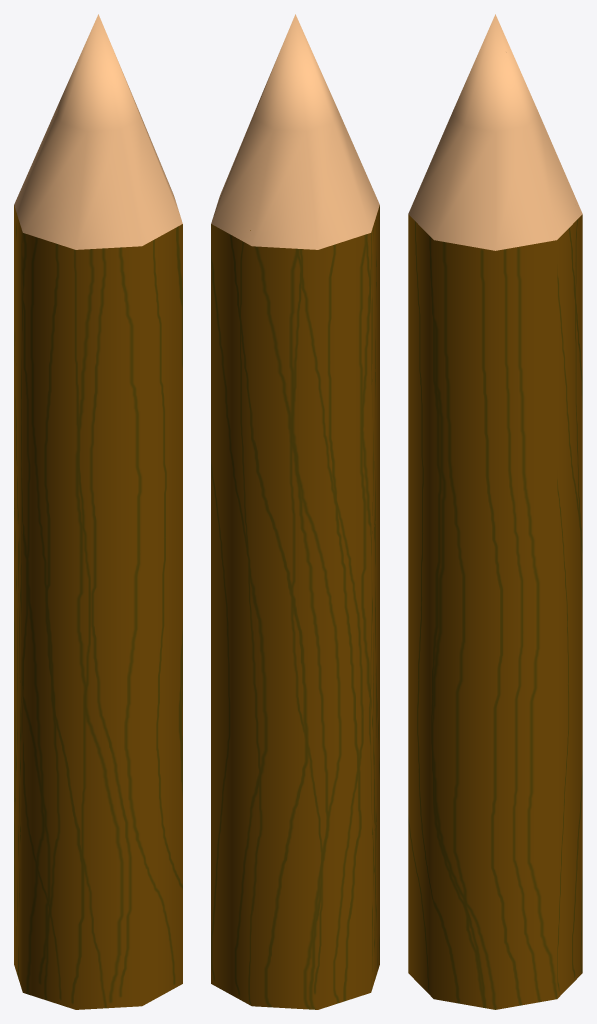
The model's file is Wall_Spike_A.fbx.
3 views of the same model, side by side, from view 1: azimuth 30°, elevation 25°; view 2: azimuth 150°, elevation 25°; view 3: azimuth 270°, elevation 25° (orthographic).
Parts seen in each view (by area): view 1: Wall_Spike_A_01; view 2: Wall_Spike_A_01; view 3: Wall_Spike_A_01.
Part boxes in pixels (bbox=[...]): Wall_Spike_A_01: bbox=[14, 14, 182, 1009]; Wall_Spike_A_01: bbox=[211, 14, 379, 1009]; Wall_Spike_A_01: bbox=[408, 14, 582, 1009].
Bounding box in the file's own units: 45.49 × 276 × 45.49.
